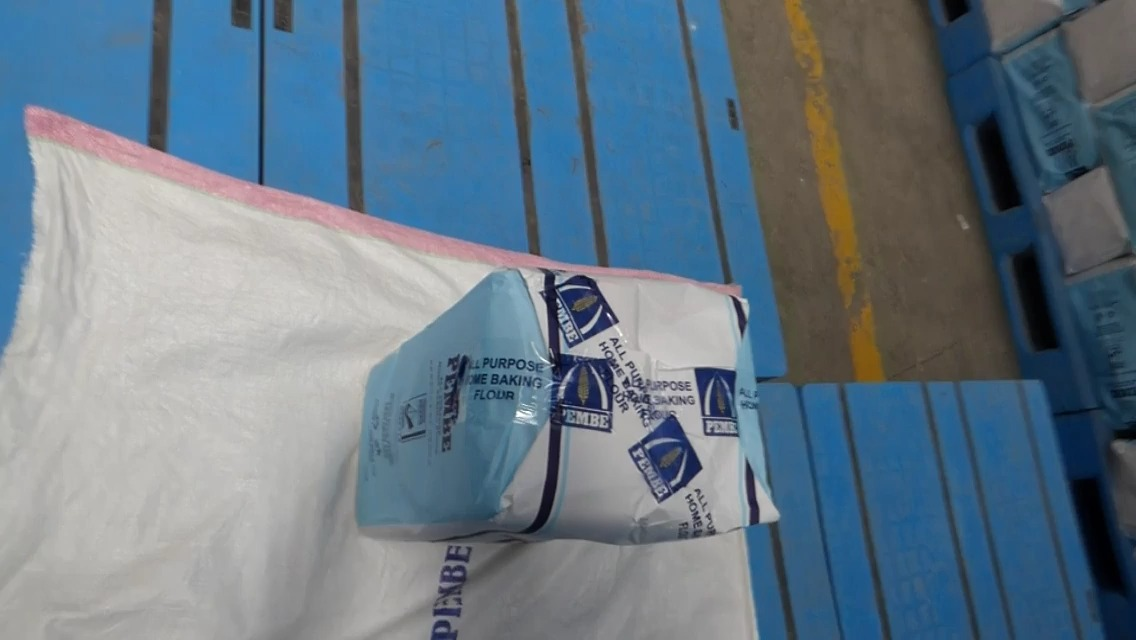wheat_flour_blue_label: (370, 260, 783, 542)
